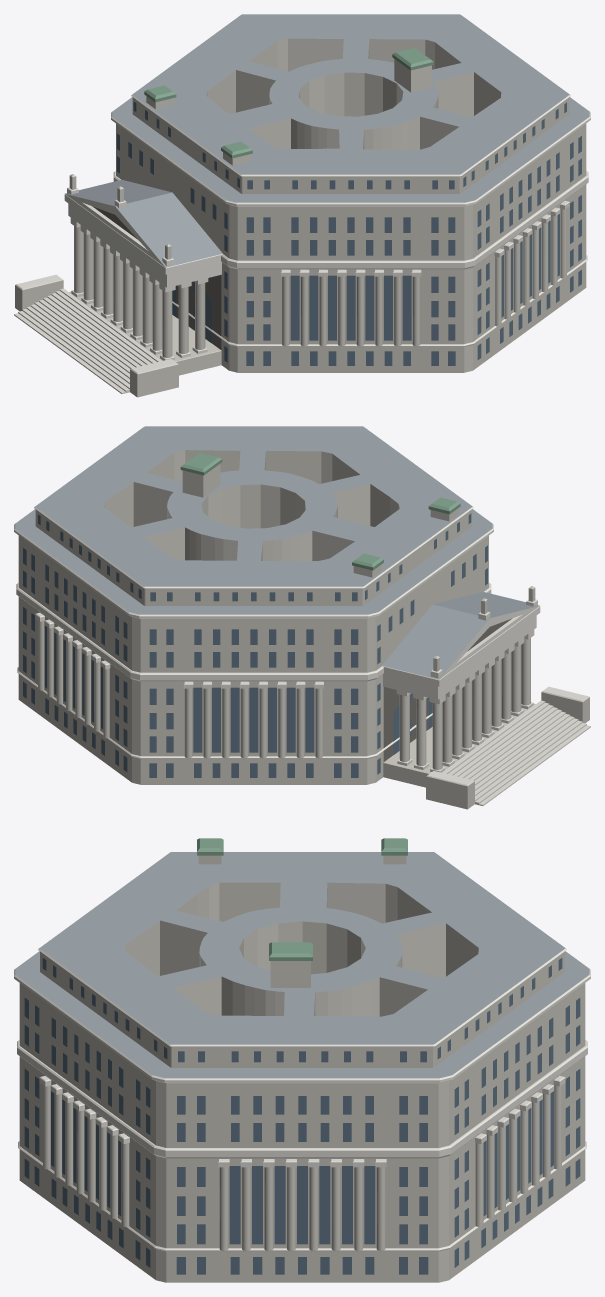
The model's file is nyc-new-york-county-courthouse.glb.
3 renders of one model, top to bottom at view 1: azimuth 30°, elevation 25°; view 2: azimuth 150°, elevation 25°; view 3: azimuth 270°, elevation 25°, orthographic. The views are drawn at different scales.
Parts seen in each view (by area): view 1: New York County Courthouse; view 2: New York County Courthouse; view 3: New York County Courthouse.
Boxes of the visible parts, x1,y1,x2,y2 form: New York County Courthouse: (14, 14, 590, 397); New York County Courthouse: (14, 426, 590, 809); New York County Courthouse: (14, 838, 590, 1282).
Bounding box in the file's own units: 112 × 50.5 × 100.
